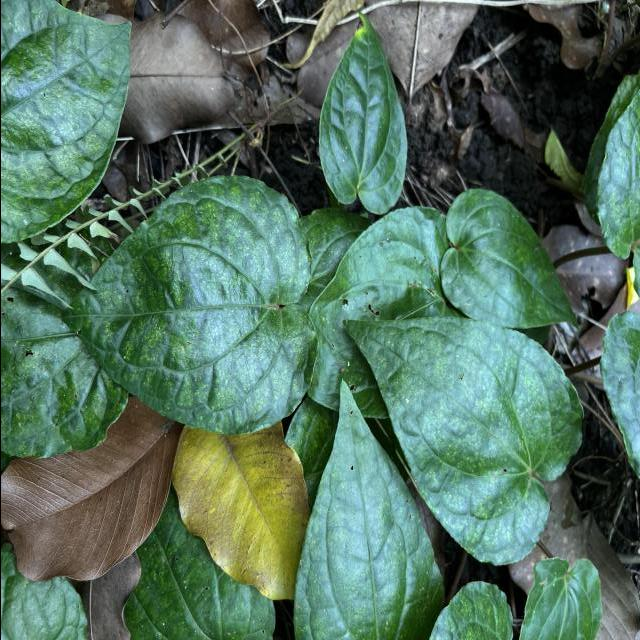Piper betle: (54, 171, 320, 440), (337, 311, 588, 569), (290, 374, 446, 638)
